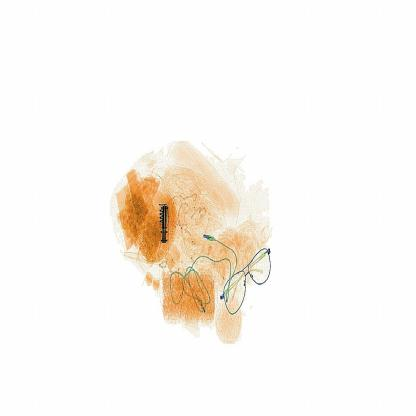scissors: (156, 201, 176, 247)
